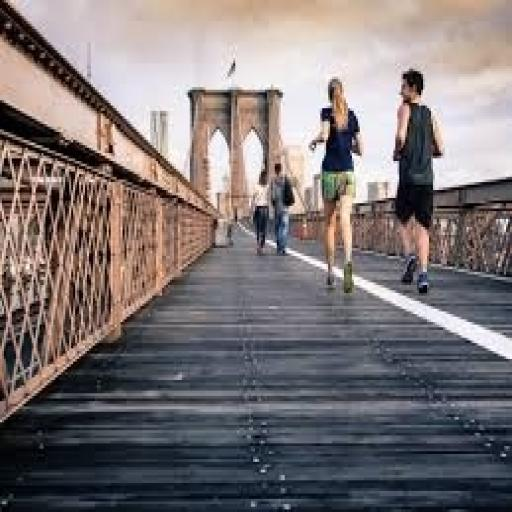running: (304, 74, 368, 298), (389, 64, 449, 298)
